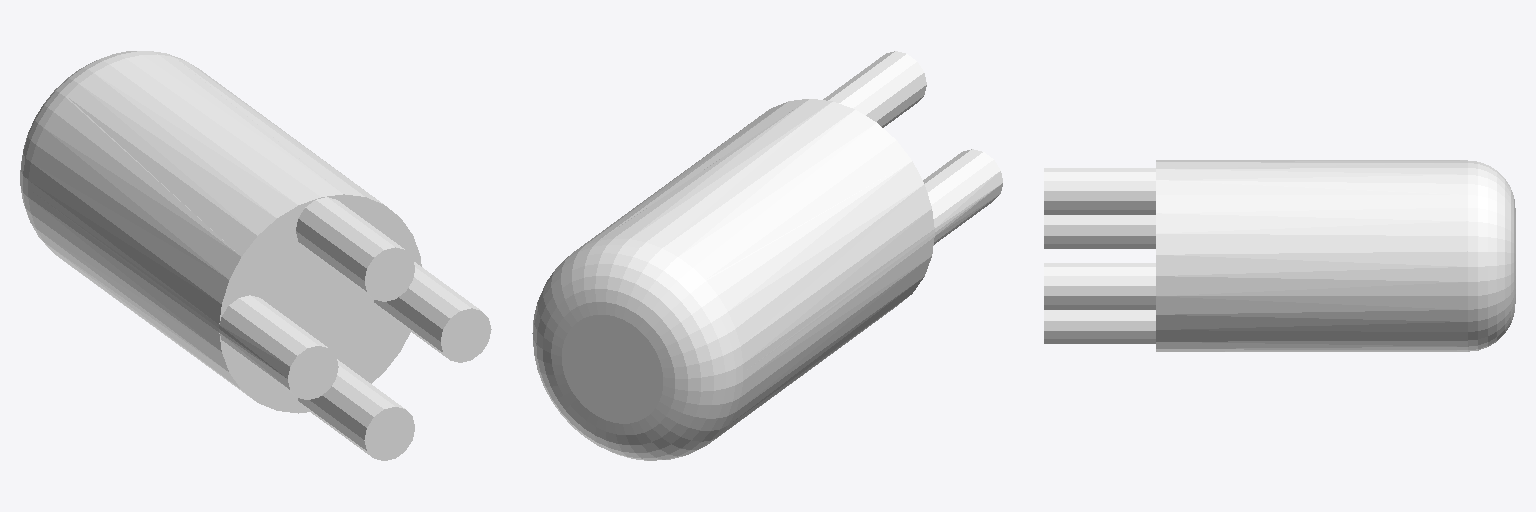
The robot description file, URDF, robot "T1501":
<robot
  name="T1501">
  <link
    name="T1501">
    <inertial>
      <origin
        xyz="-6.1525E-05 -1.2595 -3.07619999999229E-05"
        rpy="0 0 0" />
      <mass
        value="2677.9" />
      <inertia
        ixx="1632.1576844343"
        ixy="0.220861521570716"
        ixz="-5.06835232788903E-06"
        iyy="481.150740694228"
        iyz="-0.110430760784289"
        izz="1632.30573357459" />
    </inertial>
    <visual>
      <origin
        xyz="0 0 0"
        rpy="1.5707963267949 0 0" />
      <geometry>
        <mesh
          filename="package://T1501/meshes/T1501.STL" />
      </geometry>
      <material
        name="">
        <color
          rgba="1 1 1 1" />
      </material>
    </visual>
    <collision>
      <origin
        xyz="0 0 0"
        rpy="1.5707963267949 0 0" />
      <geometry>
        <mesh
          filename="package://T1501/meshes/T1501.STL" />
      </geometry>
    </collision>
  </link>
</robot>

--- Facts derived from the render (not from the file) ---
The picture shows the robot from 3 angles, left to right: view 1: azimuth 30°, elevation 25°; view 2: azimuth 150°, elevation 25°; view 3: azimuth 270°, elevation 25°; orthographic projection.
Robot: T1501 — 1 links, 0 joints (none); root link T1501; default pose: every joint at zero.
Visible links, largest first — view 1: T1501; view 2: T1501; view 3: T1501.
Boxes of the visible links, x1,y1,x2,y2 form: T1501: (20, 51, 491, 460); T1501: (532, 51, 1002, 460); T1501: (1044, 160, 1515, 351).
Size in the robot's own frame: 1.2 by 2.95 by 1.2 metres.
Meshes: 1 distinct files referenced, 1 mesh visuals loaded (1 binary STL).